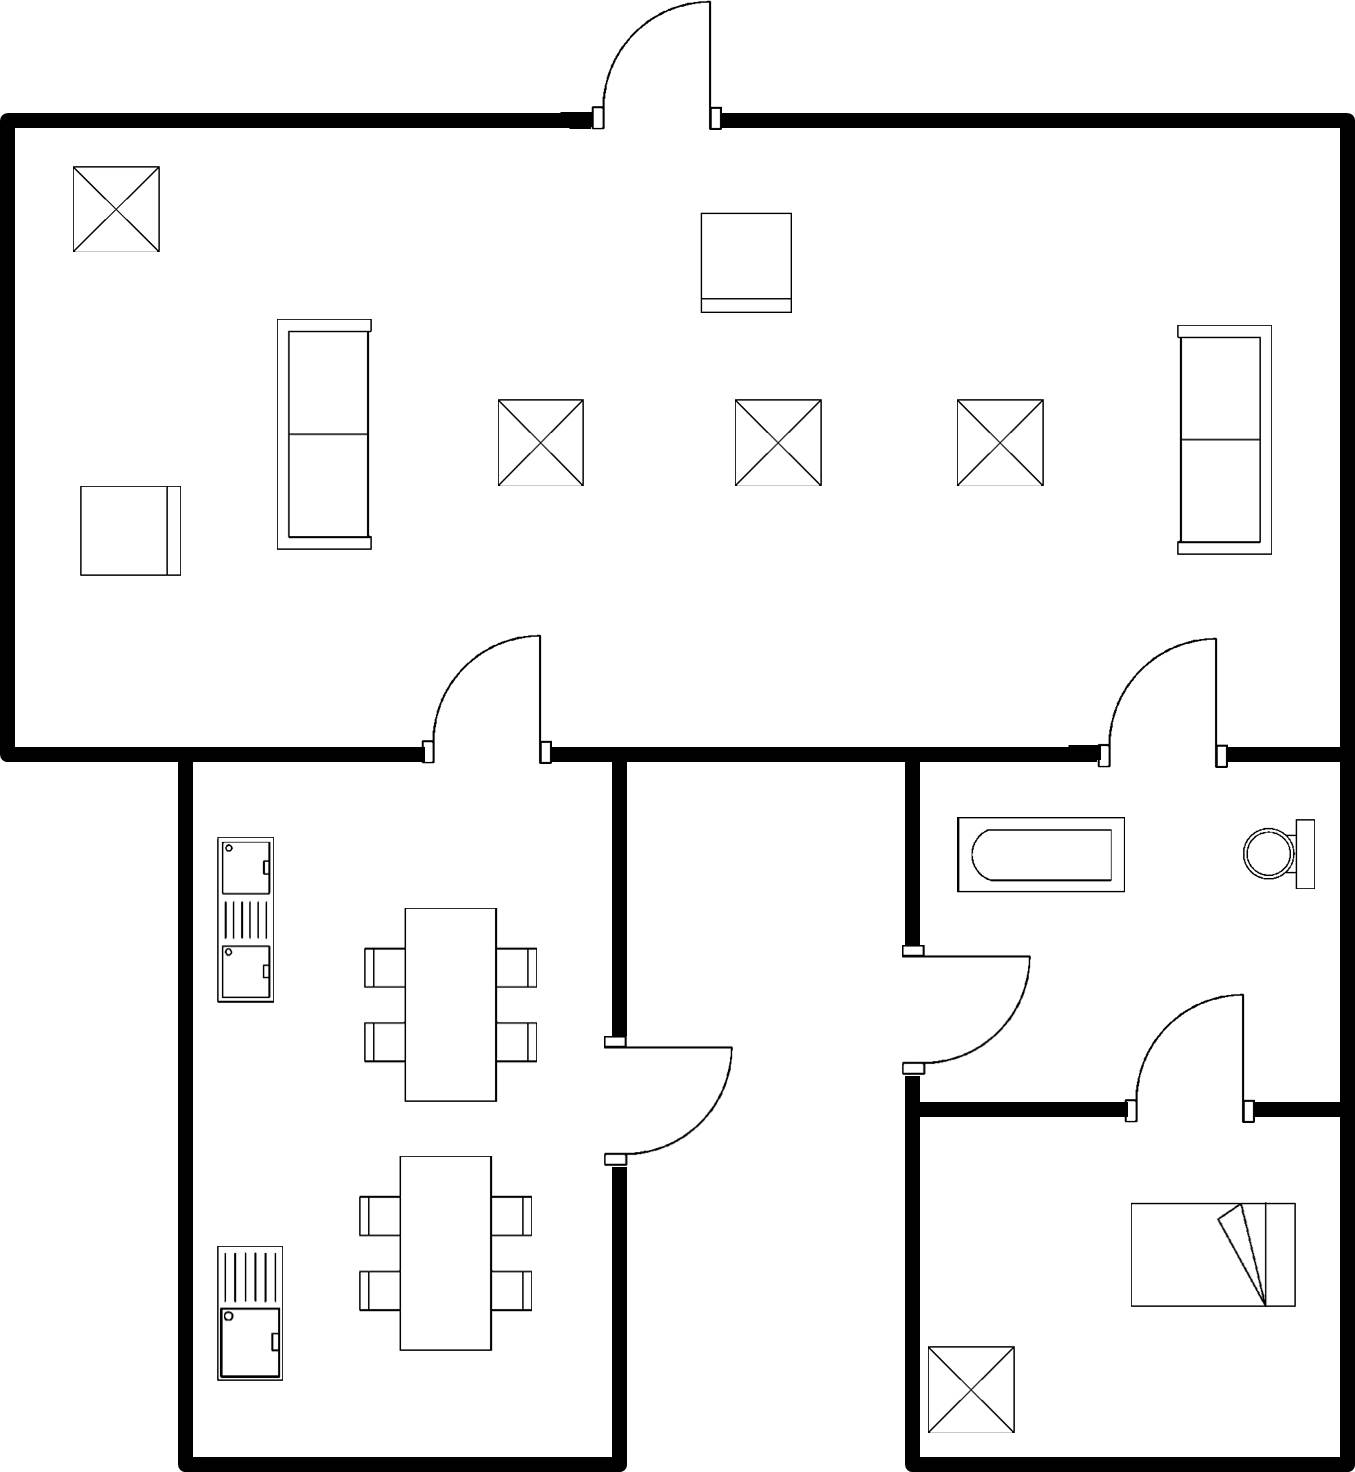bed: (1117, 1191, 1307, 1322)
coffee_table: (942, 387, 1059, 498), (722, 389, 834, 497), (922, 1335, 1028, 1445), (64, 152, 168, 262), (491, 387, 594, 498)
dining_table: (351, 898, 551, 1111), (348, 1148, 542, 1362)
large_sink: (1232, 808, 1324, 899)
large_sofa: (1164, 314, 1285, 564), (268, 304, 384, 562)
sink: (208, 1235, 298, 1394)
small_sofa: (685, 201, 804, 327), (69, 475, 194, 591)
tub: (947, 804, 1141, 905)
twin_sink: (205, 829, 288, 1017)
